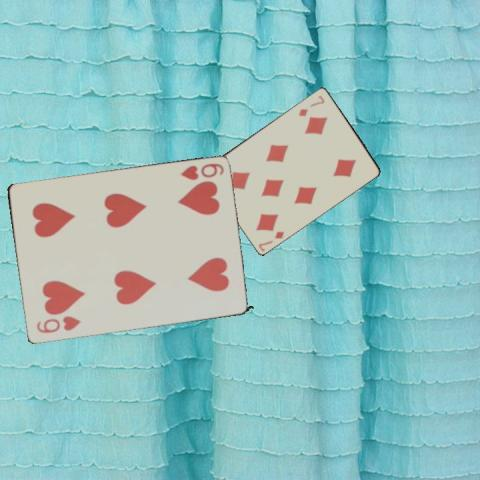6h: (34, 313, 82, 335), (178, 161, 226, 182)
7d: (295, 92, 326, 117), (256, 228, 286, 253)
